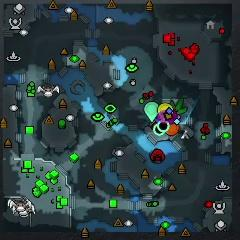p2: (144, 102, 160, 122)
p2Clone: (156, 120, 170, 132), (154, 124, 164, 136)
p3: (157, 110, 178, 126)
p4: (158, 103, 173, 111)
p5: (165, 122, 181, 136)
x4: (170, 97, 187, 115)
